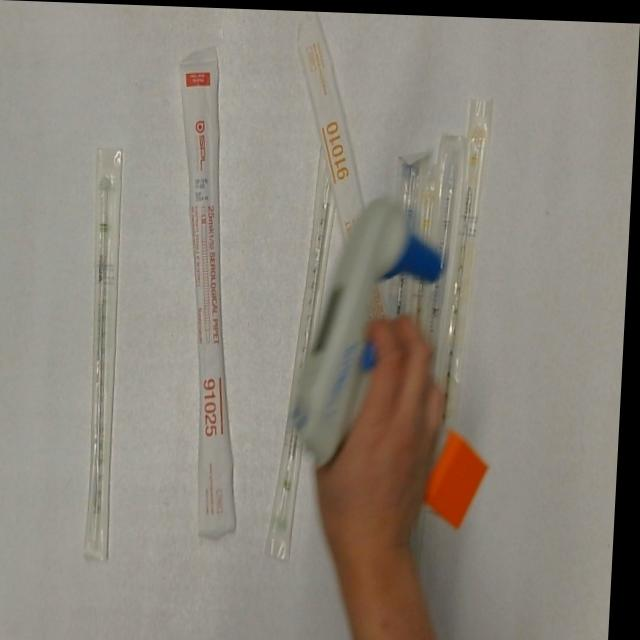Pipette Controller: (291, 190, 511, 532)
Serelogical Pipet 1 mL - Sealed: (447, 85, 493, 497), (404, 156, 439, 325)
Serelogical Pipet 10 mL - Sealed: (283, 9, 400, 321)
Serelogical Pipet 2 mL - Sealed: (266, 134, 350, 564), (81, 142, 134, 567)
Serelogical Pipet 25 mL - Sealed: (160, 41, 278, 542)
Serelogical Pipet 5 mL - Sealed: (374, 138, 428, 314)
